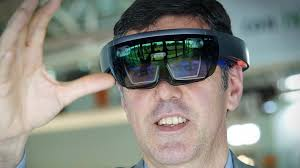hololens: (99, 31, 251, 91)
